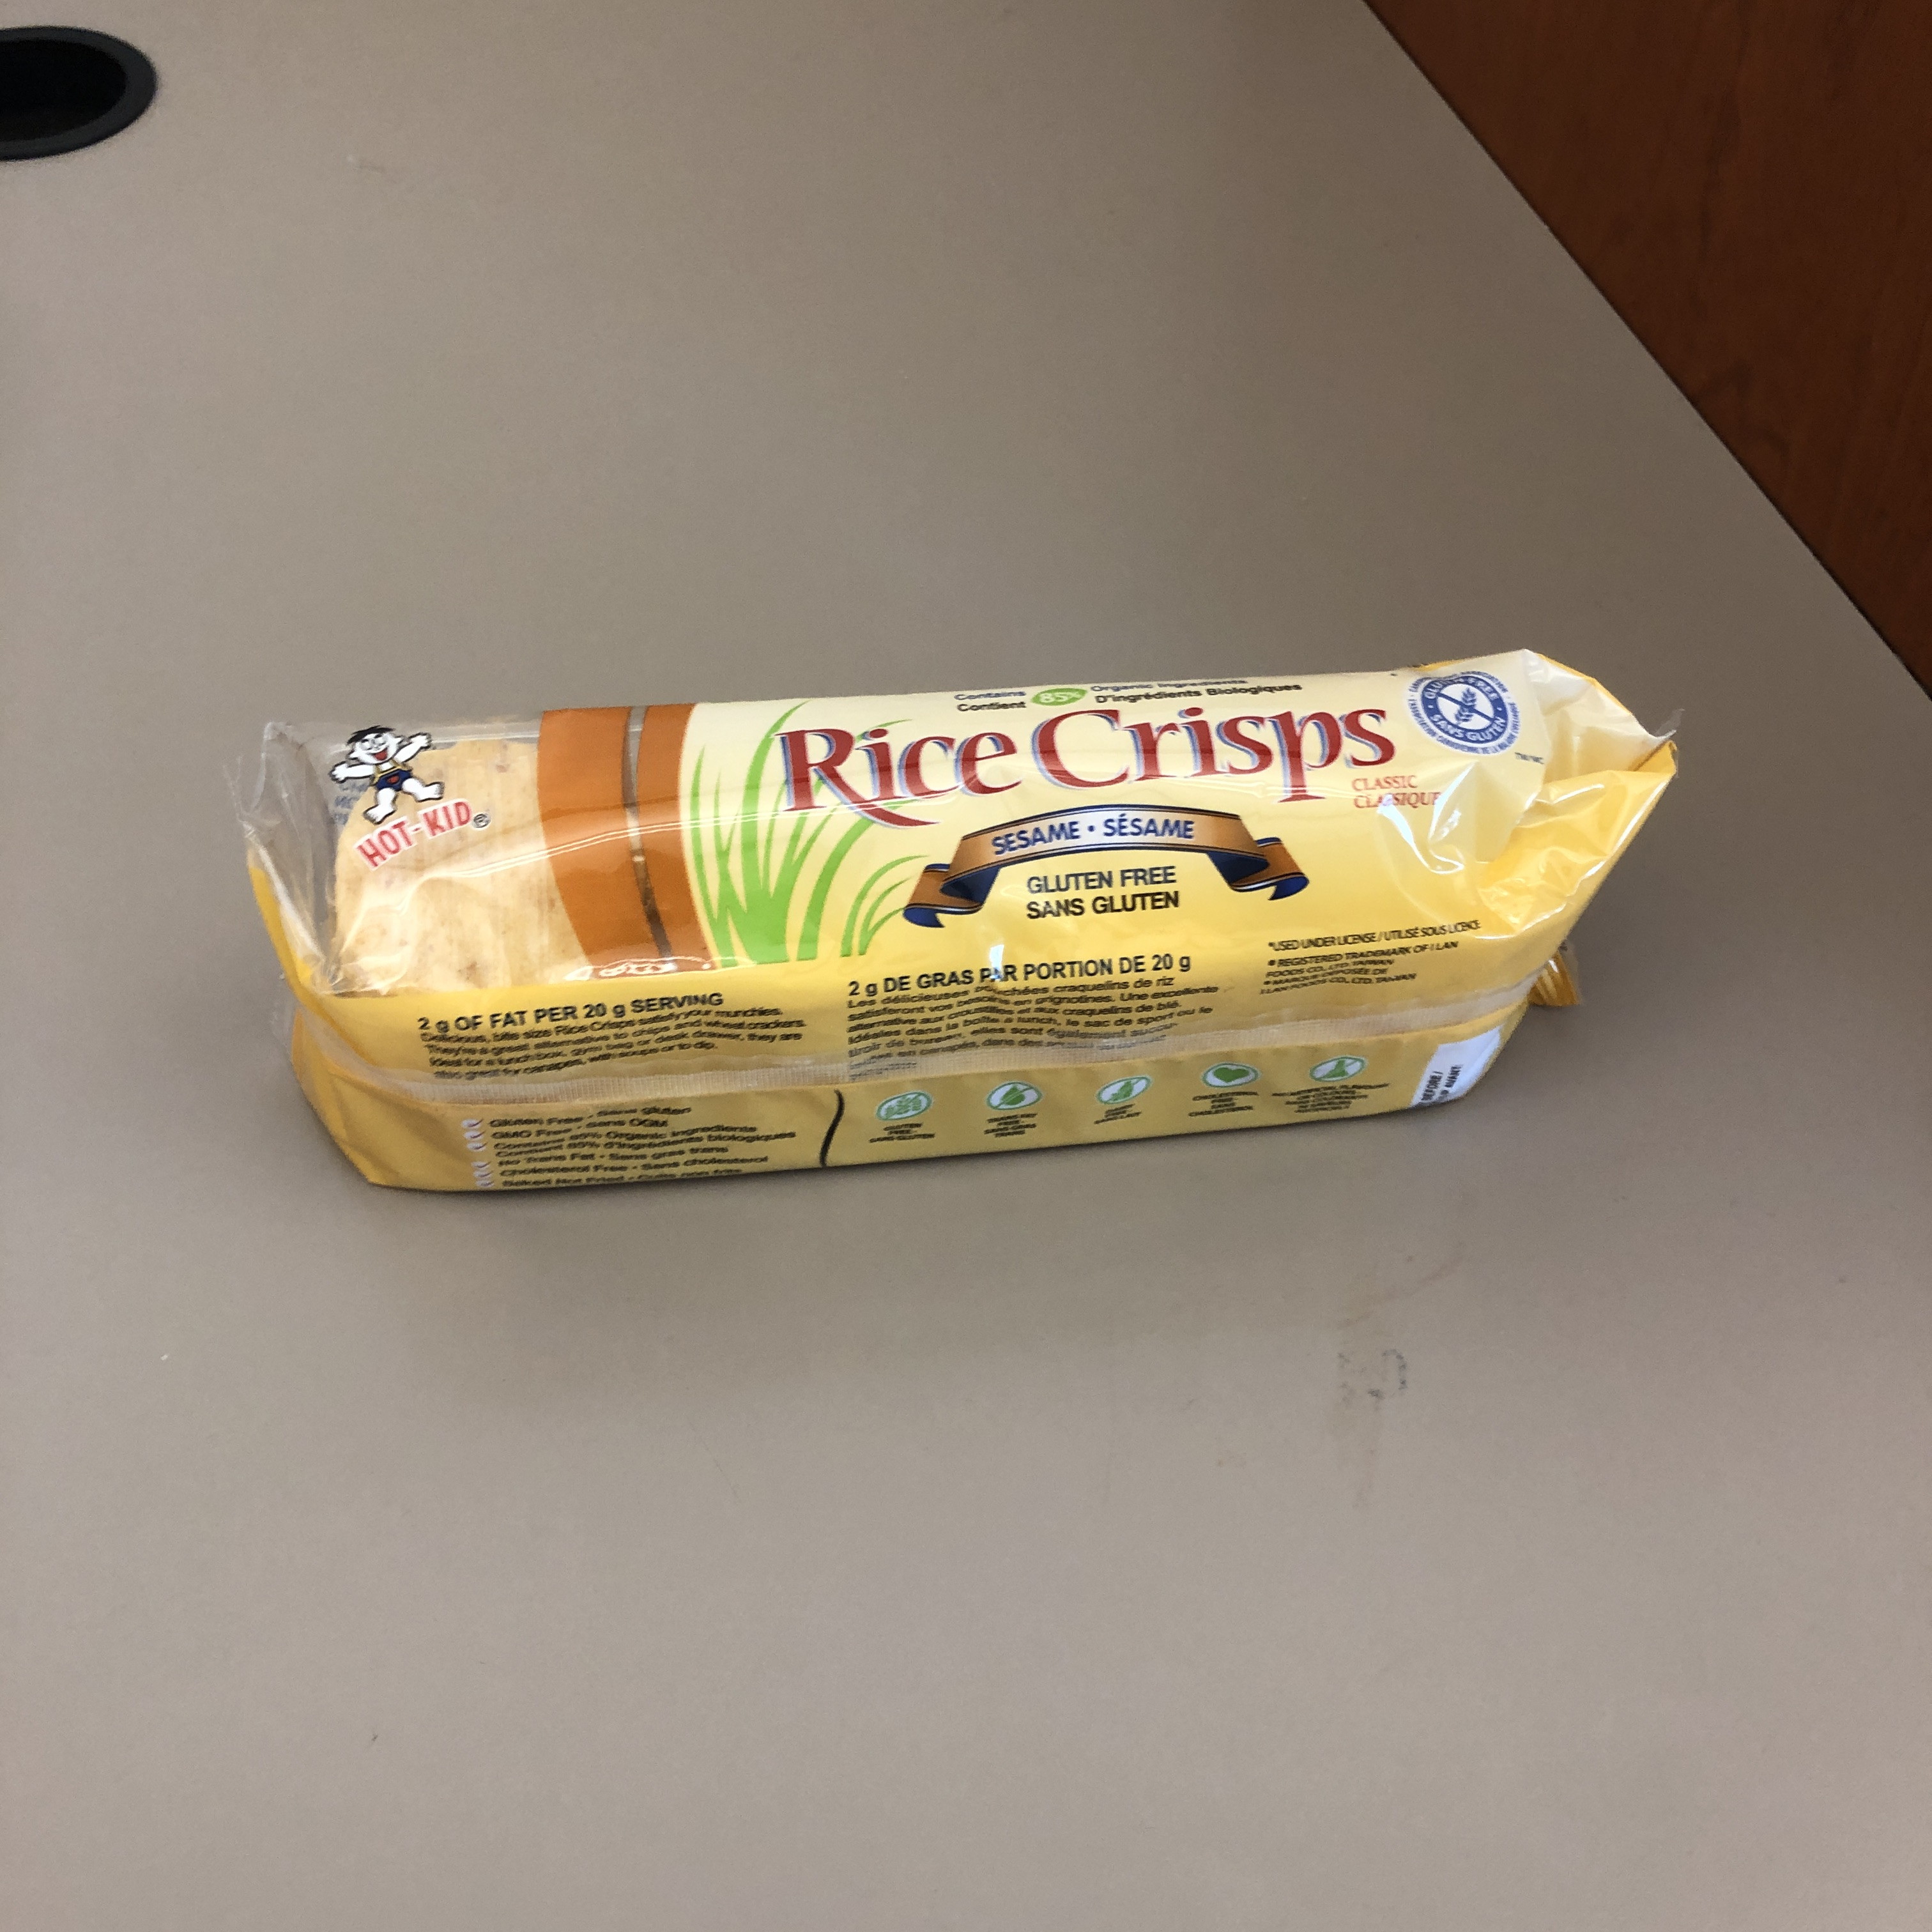hot_kid_rice_crisps_sesame: (661, 320, 1146, 1618)
